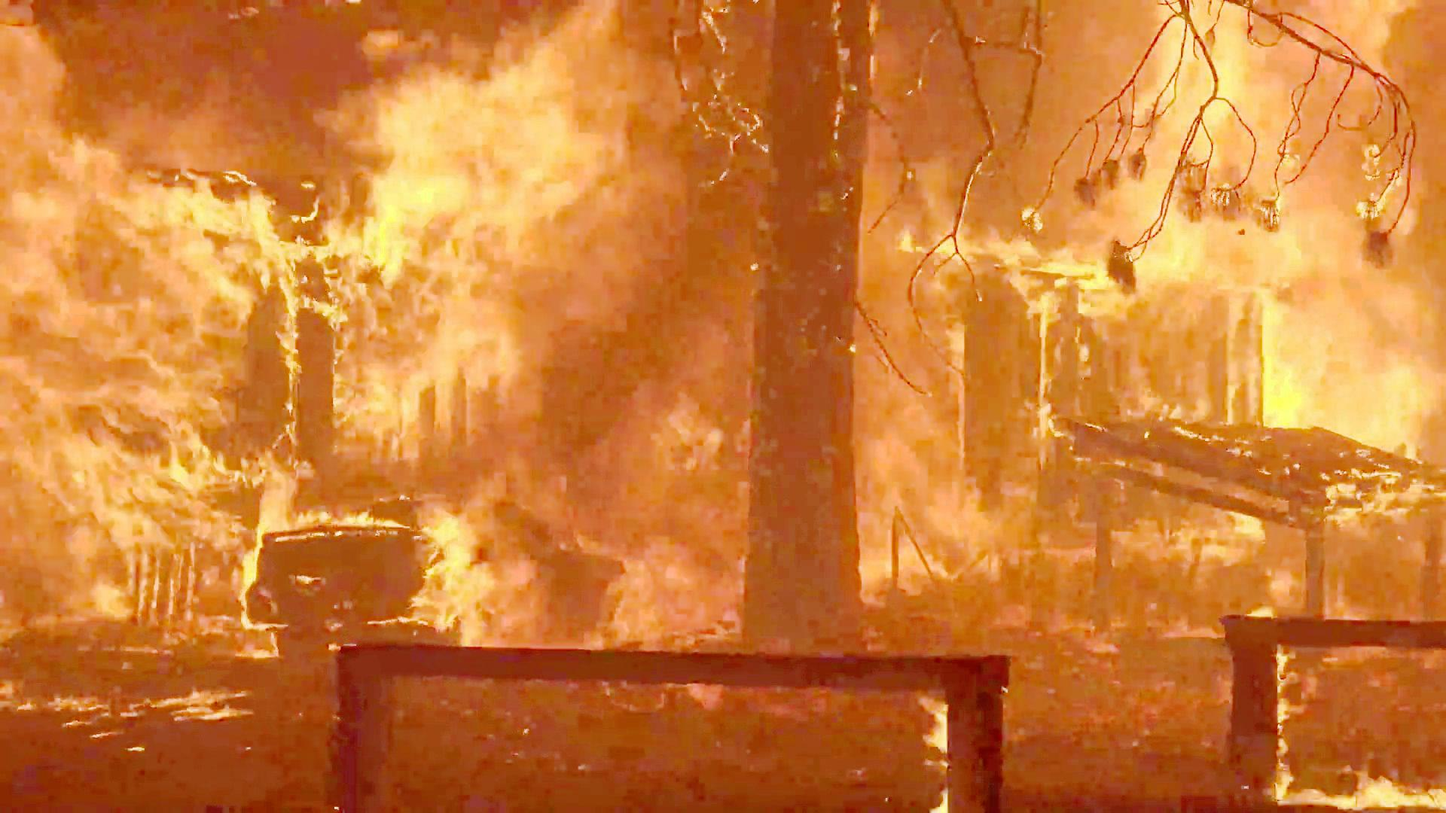fire: (328, 32, 654, 500), (0, 85, 249, 605), (1160, 17, 1445, 443), (1284, 659, 1446, 813), (415, 507, 610, 633)
